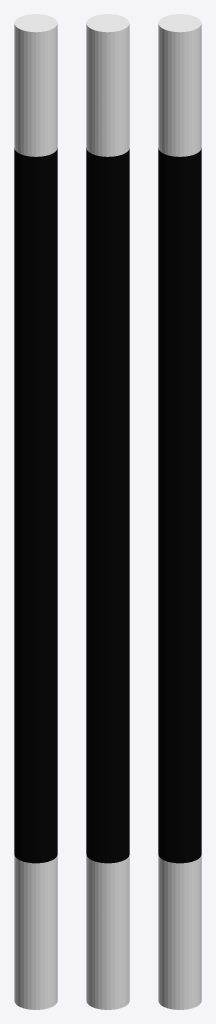
Rendered from magic stick.fbx.
3 views of the same model, side by side, from view 1: azimuth 90°, elevation 25°; view 2: azimuth 210°, elevation 25°; view 3: azimuth 270°, elevation 25° (orthographic).
Visible parts, largest first — view 1: 柱体; view 2: 柱体; view 3: 柱体.
Boxes of the visible parts, bbox=[...] form: 柱体: bbox=[14, 14, 57, 1009]; 柱体: bbox=[86, 14, 129, 1009]; 柱体: bbox=[158, 14, 201, 1009].
Size of the model in its own units: 100 by 2500 by 100.
Materials: 1 (1 with a texture image).
